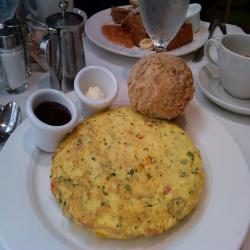bread: (124, 48, 206, 130)
omelette: (47, 102, 209, 244)
